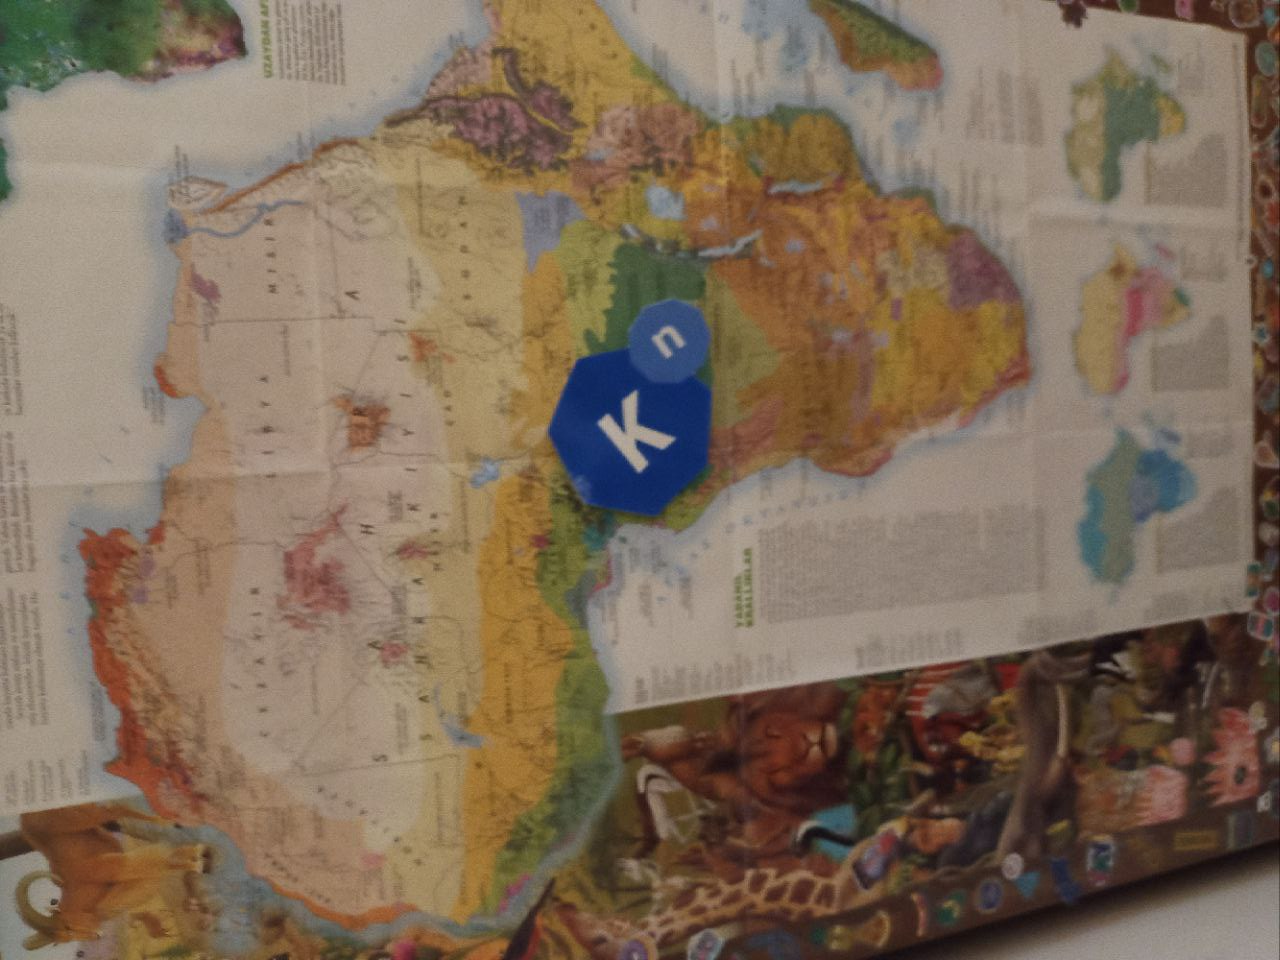knative: (547, 296, 715, 511)
